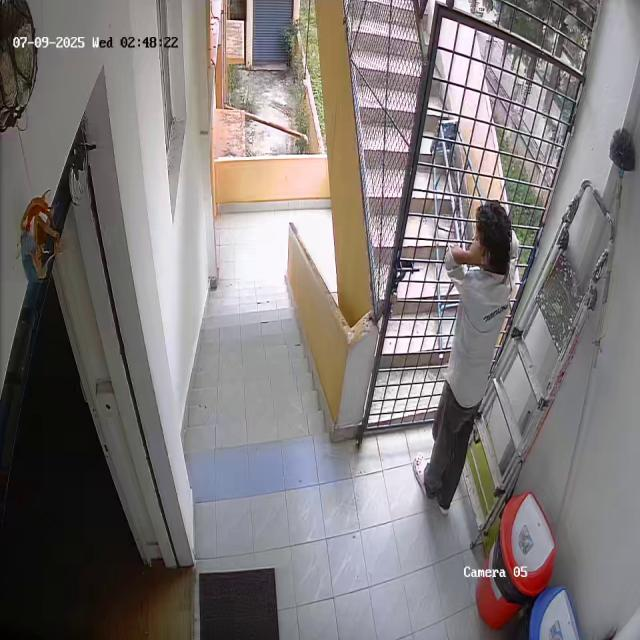person: (410, 200, 515, 508)
